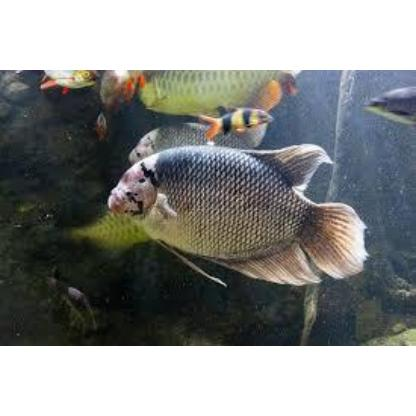gurame: (105, 145, 367, 288)
